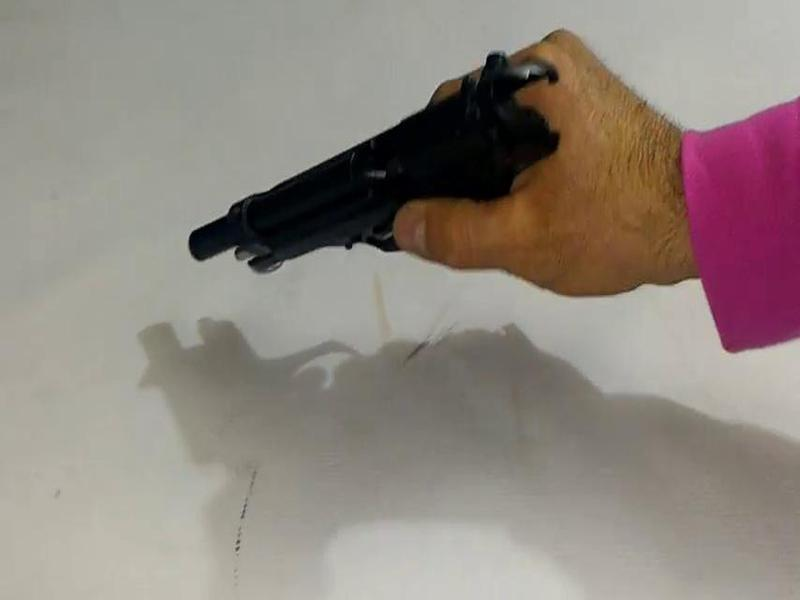Pistola: (137, 31, 645, 328)
